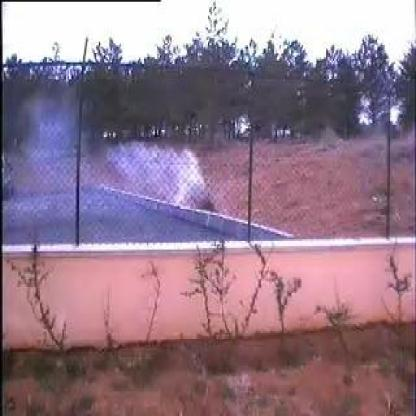-: (40, 95, 219, 238)
